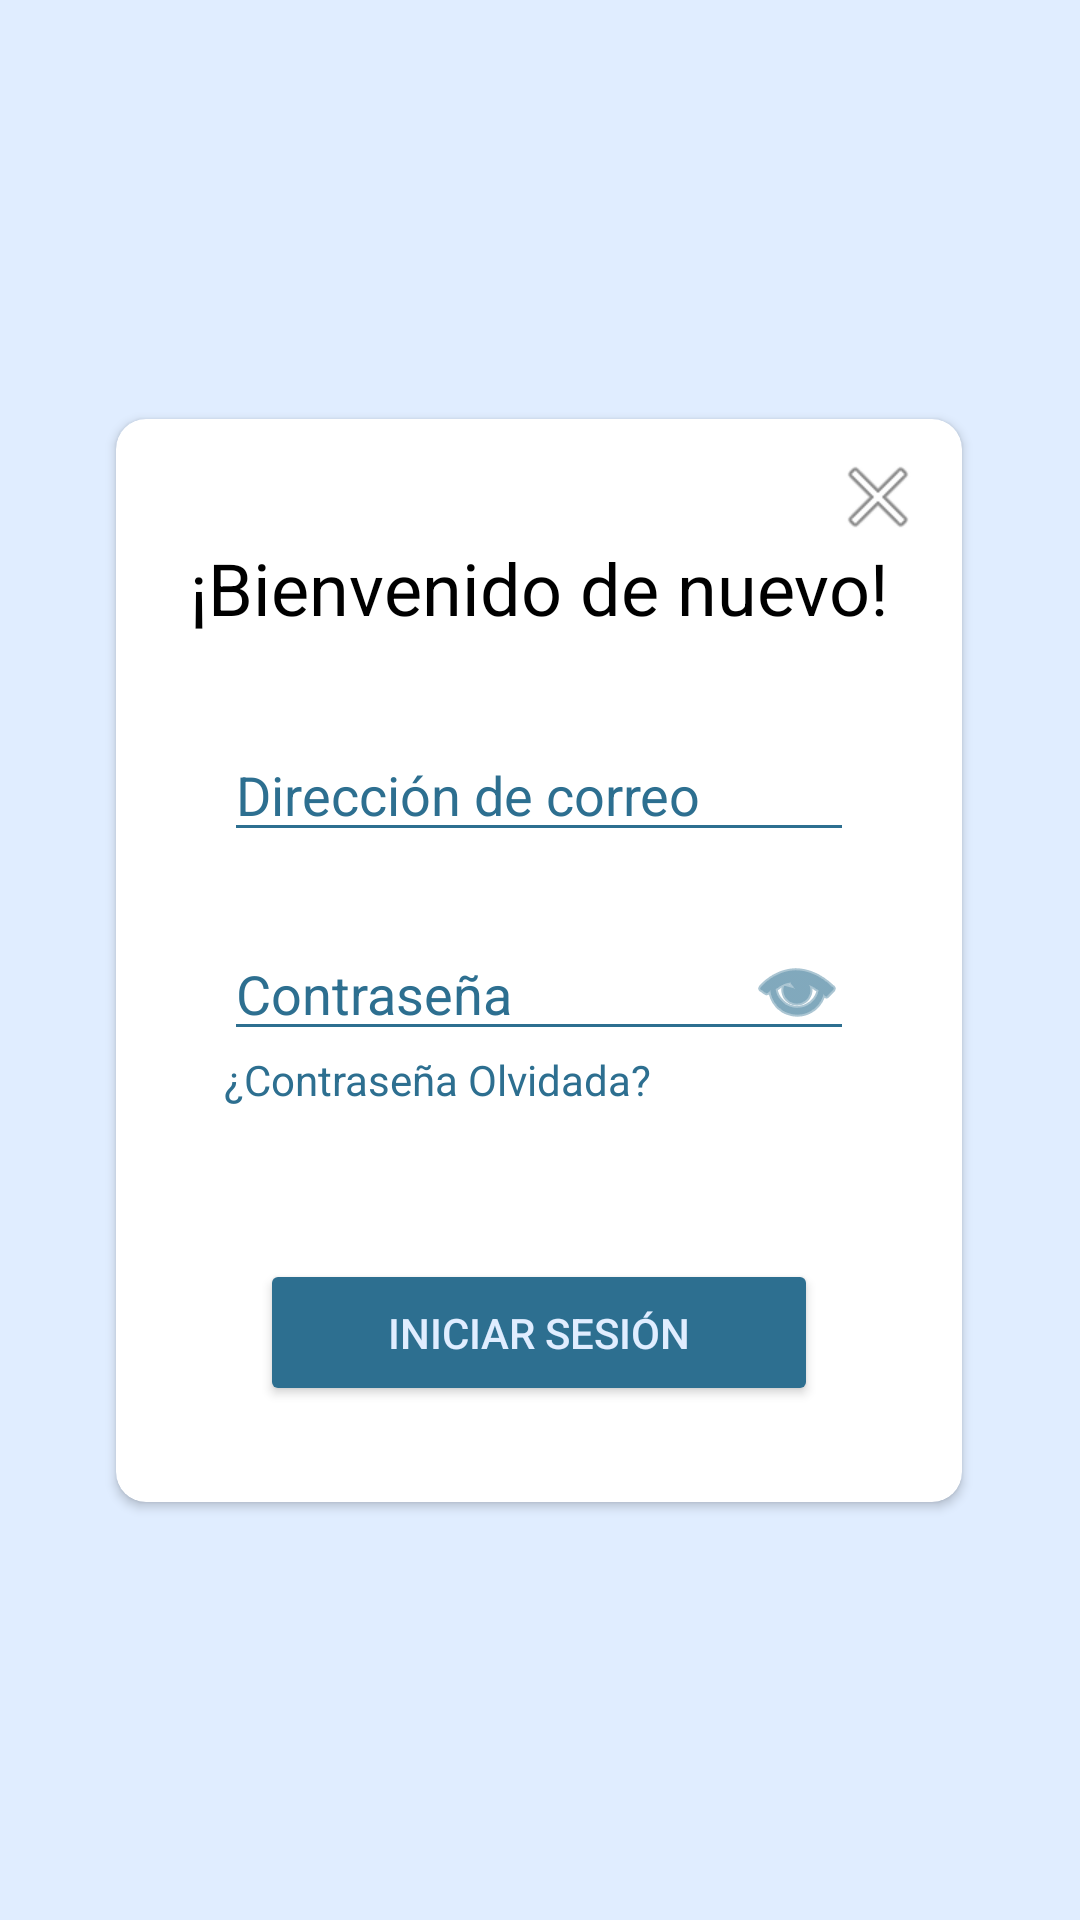

Screen size 1080w x 1920h. Icon name, then its box in pixels as (x1, y1, x2, y2):
close clear cancel: (848, 467, 908, 527)
view: (758, 968, 836, 1017)
